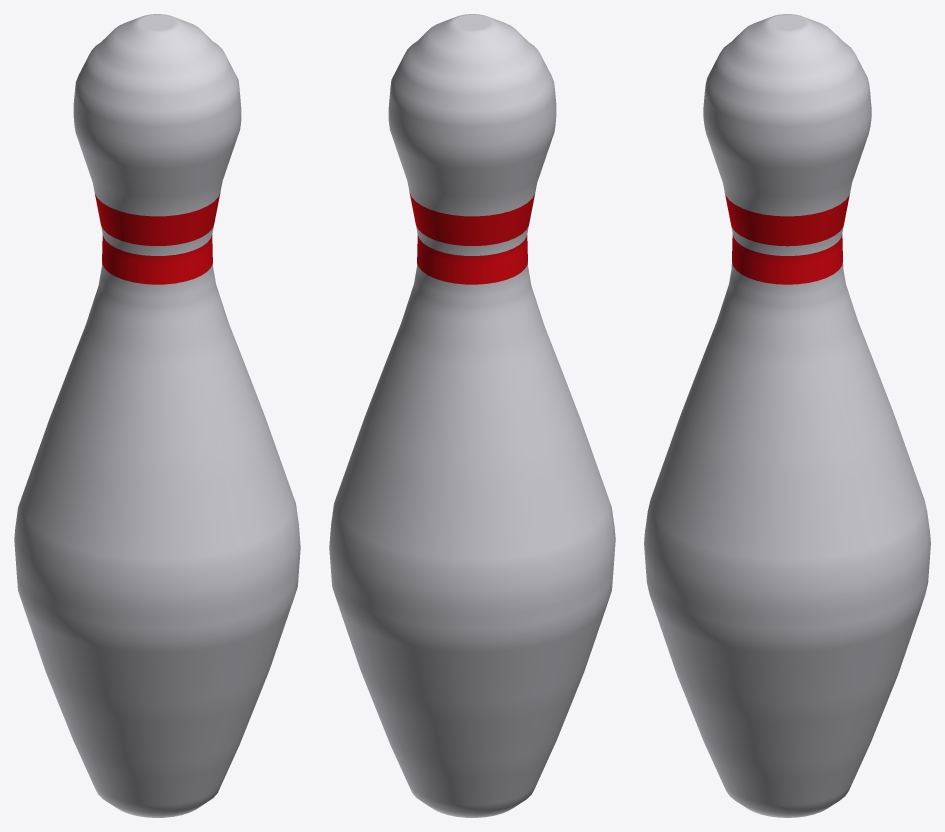
The model's file is pin.fbx.
3 views of the same model, side by side, from view 1: azimuth 30°, elevation 25°; view 2: azimuth 150°, elevation 25°; view 3: azimuth 270°, elevation 25° (orthographic).
Parts seen in each view (by area): view 1: Circle; view 2: Circle; view 3: Circle.
Part boxes in pixels (left/top/right/bottom): Circle: left=14, top=14, right=300, bottom=817; Circle: left=329, top=14, right=615, bottom=817; Circle: left=644, top=14, right=930, bottom=817.
Bounding box in the file's own units: 47.92 × 143 × 47.92.
